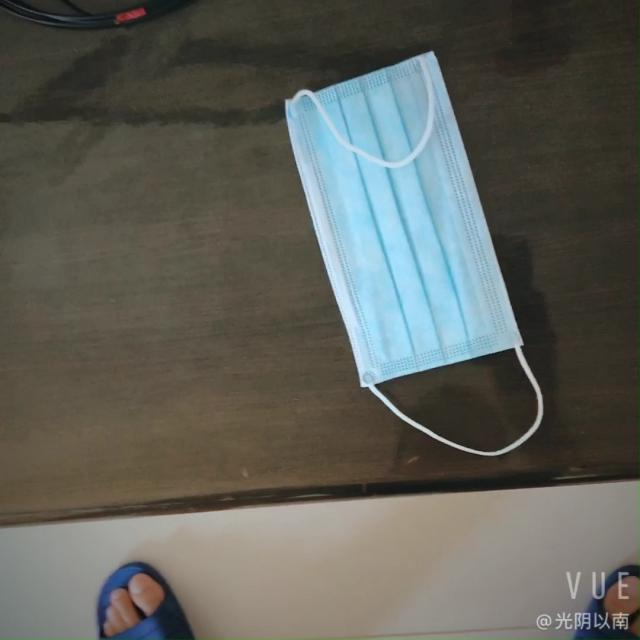non-organic waste: (303, 49, 519, 418)
